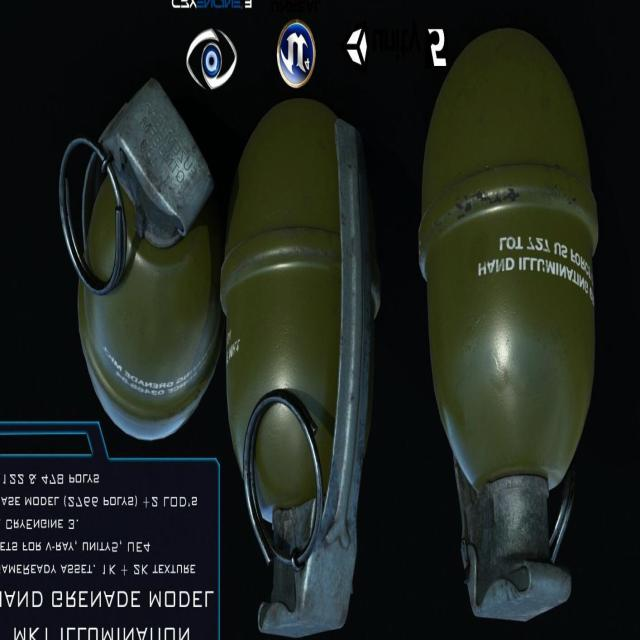grenade: (420, 26, 600, 624), (220, 93, 382, 640), (61, 75, 226, 445)
